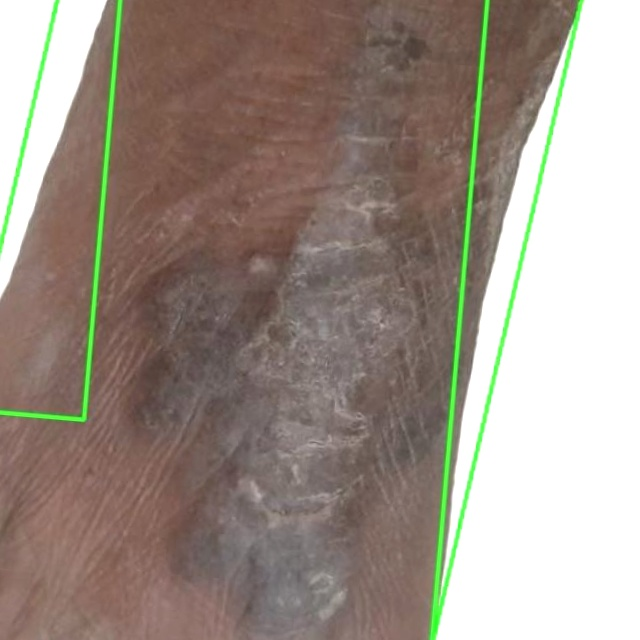Eczema: (0, 0, 582, 639), (432, 0, 639, 639), (0, 0, 120, 419)
